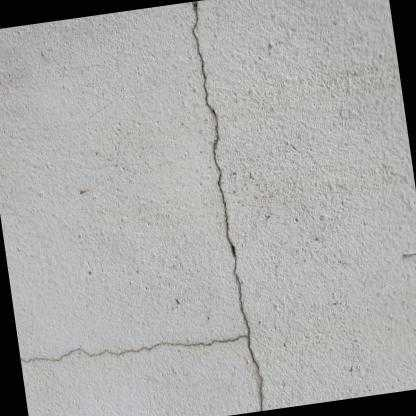crack: (19, 0, 262, 411)
